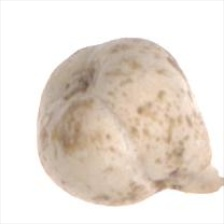L3: (161, 160, 221, 199)
L4: (37, 38, 220, 208)
